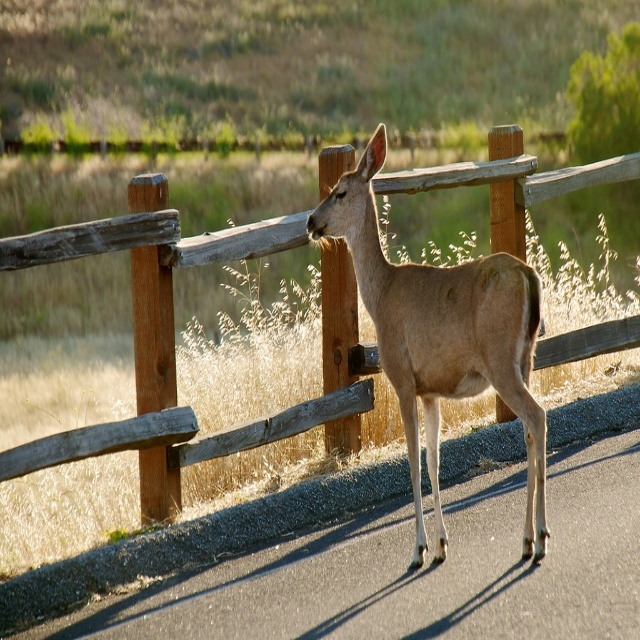Deer: (310, 125, 546, 567)
